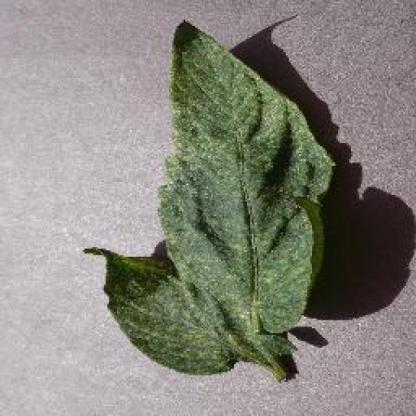Tomato_Spider_Mites: (87, 22, 333, 374)
